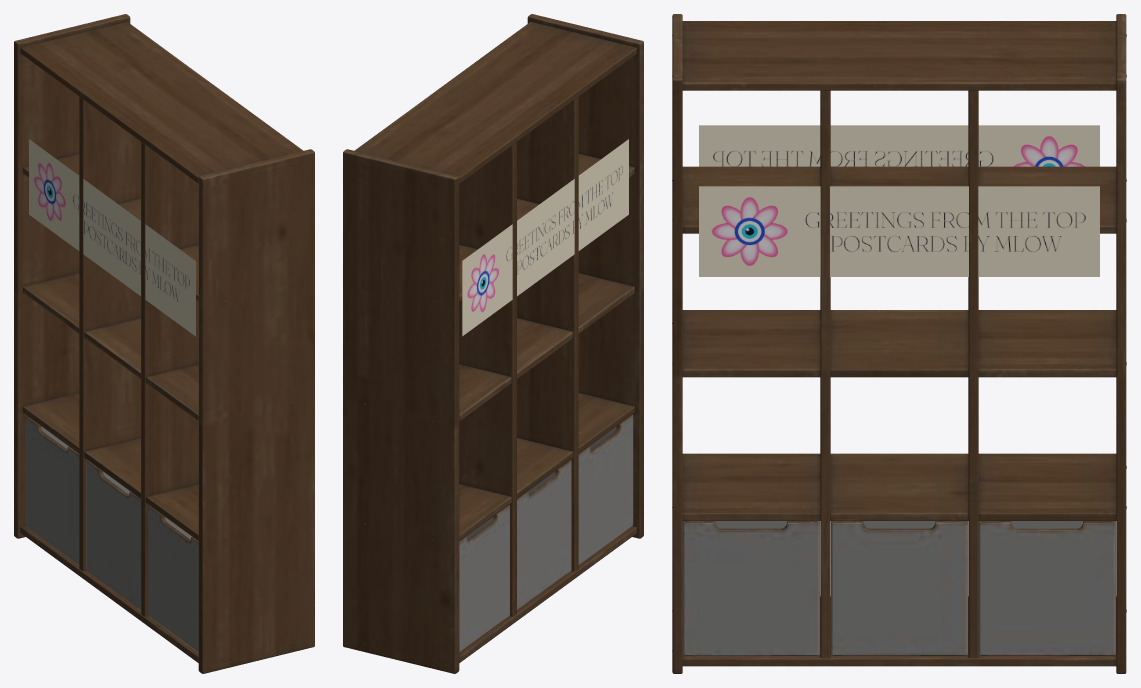
The model's file is nyb_kong_postcards.glb.
3 renders of one model, left to right at view 1: azimuth 30°, elevation 25°; view 2: azimuth 150°, elevation 25°; view 3: azimuth 270°, elevation 25°, orthographic. The views are drawn at different scales.
Visible parts, largest first — view 1: wooden_display_shelves_01, stk_lbl_3ccac8440b.png; view 2: wooden_display_shelves_01, stk_lbl_3ccac8440b.png; view 3: wooden_display_shelves_01, stk_lbl_3ccac8440b.png.001, stk_lbl_3ccac8440b.png.
Boxes of the visible parts, <box> form: wooden_display_shelves_01: <box>14,14,314,673</box>; stk_lbl_3ccac8440b.png: <box>29,139,195,336</box>; wooden_display_shelves_01: <box>343,14,643,673</box>; stk_lbl_3ccac8440b.png: <box>462,139,628,336</box>; wooden_display_shelves_01: <box>672,14,1126,673</box>; stk_lbl_3ccac8440b.png.001: <box>699,186,1099,276</box>; stk_lbl_3ccac8440b.png: <box>699,125,1099,166</box>.
Size of the model in its own units: 0.3715 by 1.56 by 1.08.
3 materials, 3 textured.
